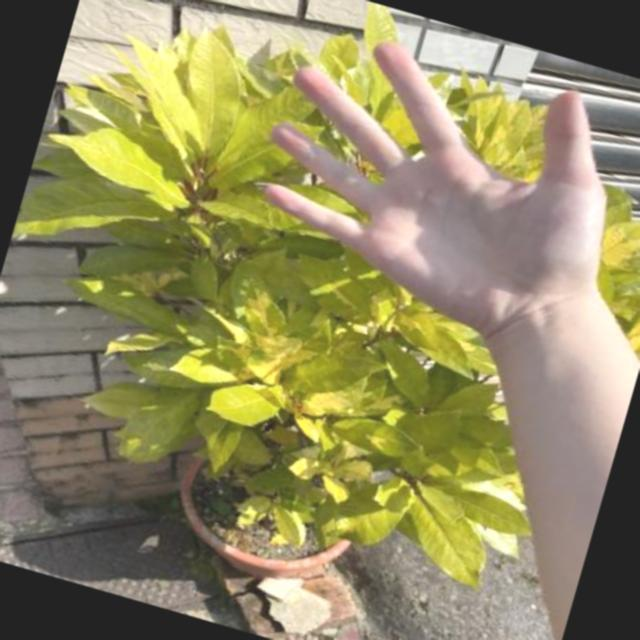hand: (212, 0, 640, 365)
